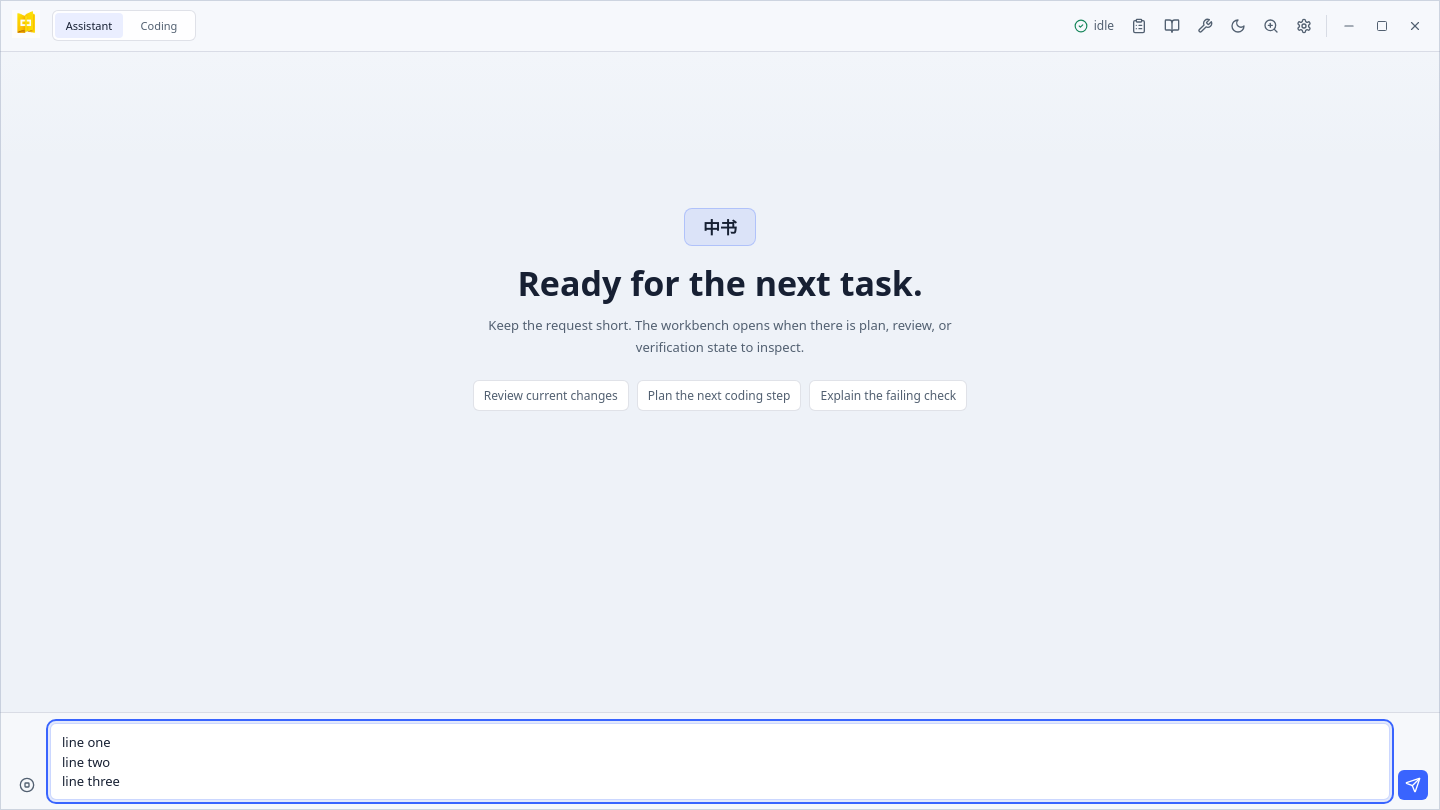
Scenario: App IPC interactions › shows submitted user text immediately and ignores the native echo
Replace the text in the text box with placeholder "Ask Zhongshu what to do next." with "show me instantly" at coordinates (720, 762), box x1=50 y1=723 x2=1390 y2=800
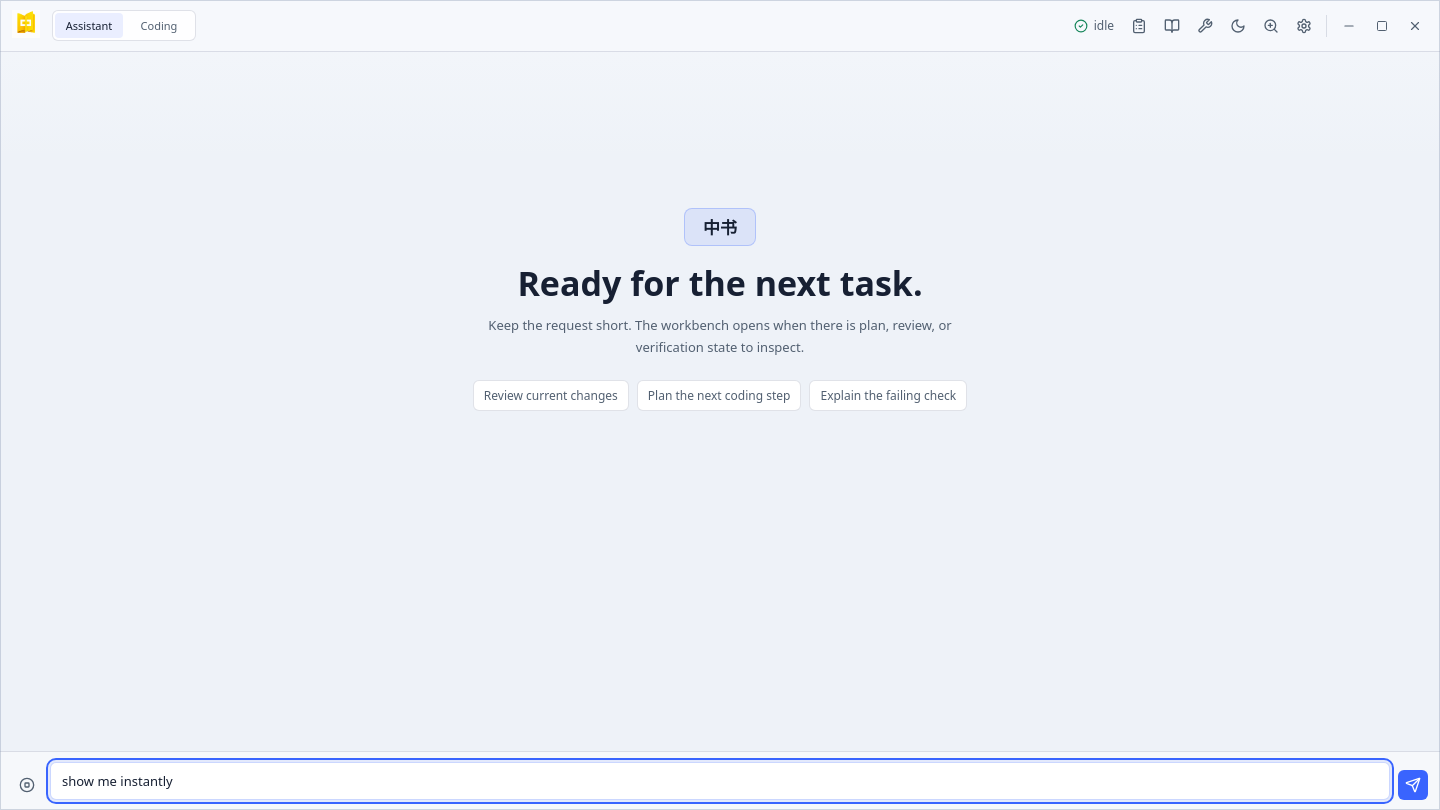
Click the button named "Send" at coordinates (1413, 785), box x1=1398 y1=770 x2=1428 y2=800
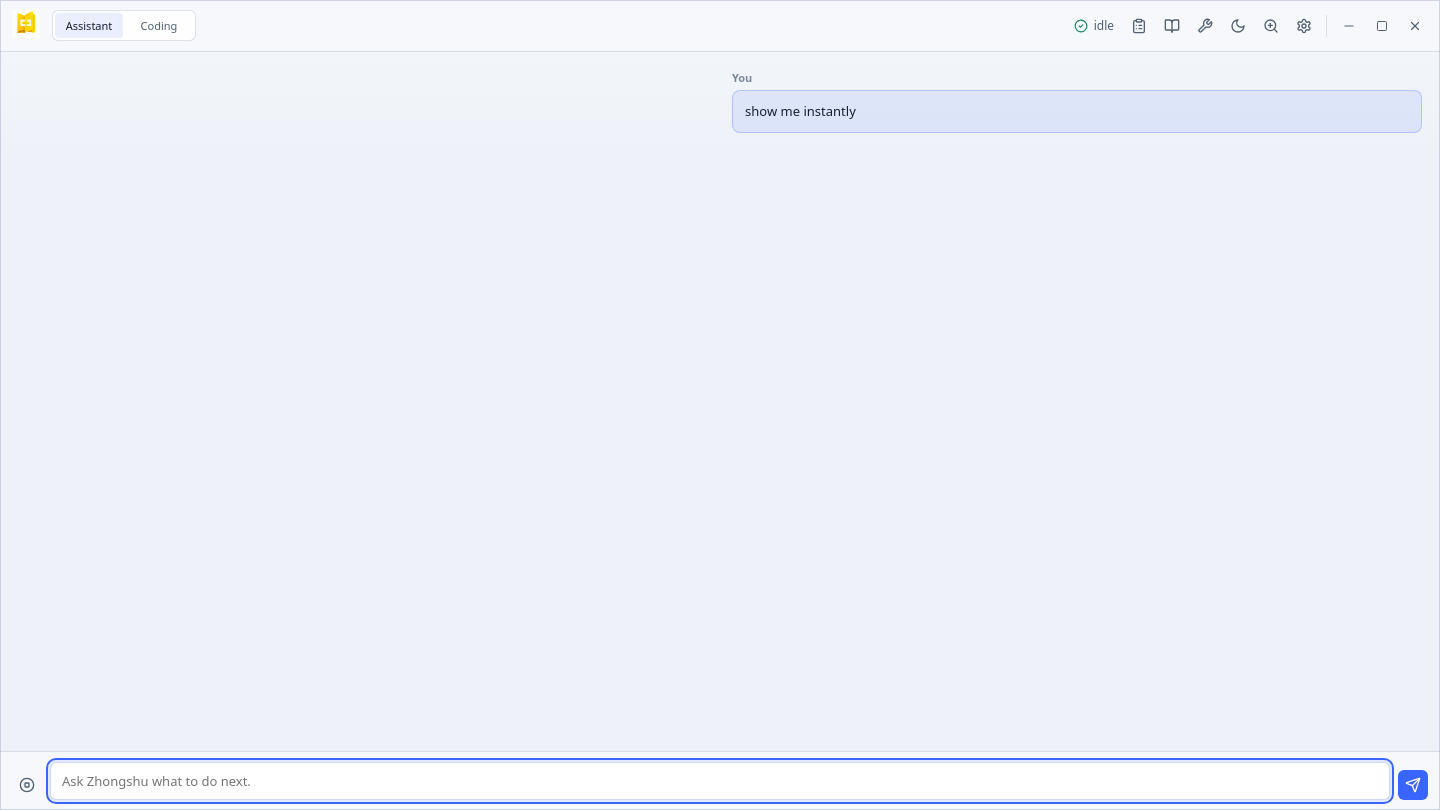
Check: the text "show me instantly" is shown once, box x1=745 y1=102 x2=856 y2=120
